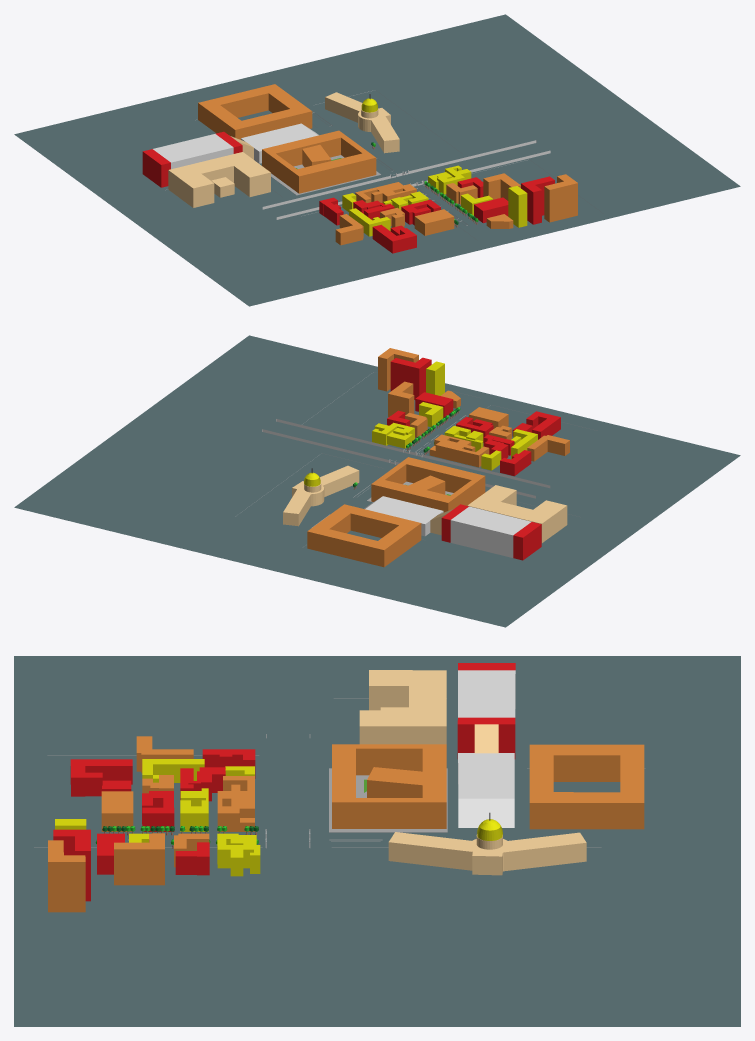
Rendered from universityModeltest2.glb.
The picture shows the model from 3 angles, top to bottom: view 1: azimuth 30°, elevation 25°; view 2: azimuth 150°, elevation 25°; view 3: azimuth 270°, elevation 25°; orthographic projection. The views are drawn at different scales.
Visible parts, largest first — view 1: Cube; view 2: Cube; view 3: Cube.
Boxes of the visible parts, bbox=[...] form: Cube: bbox=[14, 14, 740, 306]; Cube: bbox=[14, 335, 740, 627]; Cube: bbox=[14, 656, 740, 1026].
Size of the model in its own units: 123 by 9.27 by 102.
